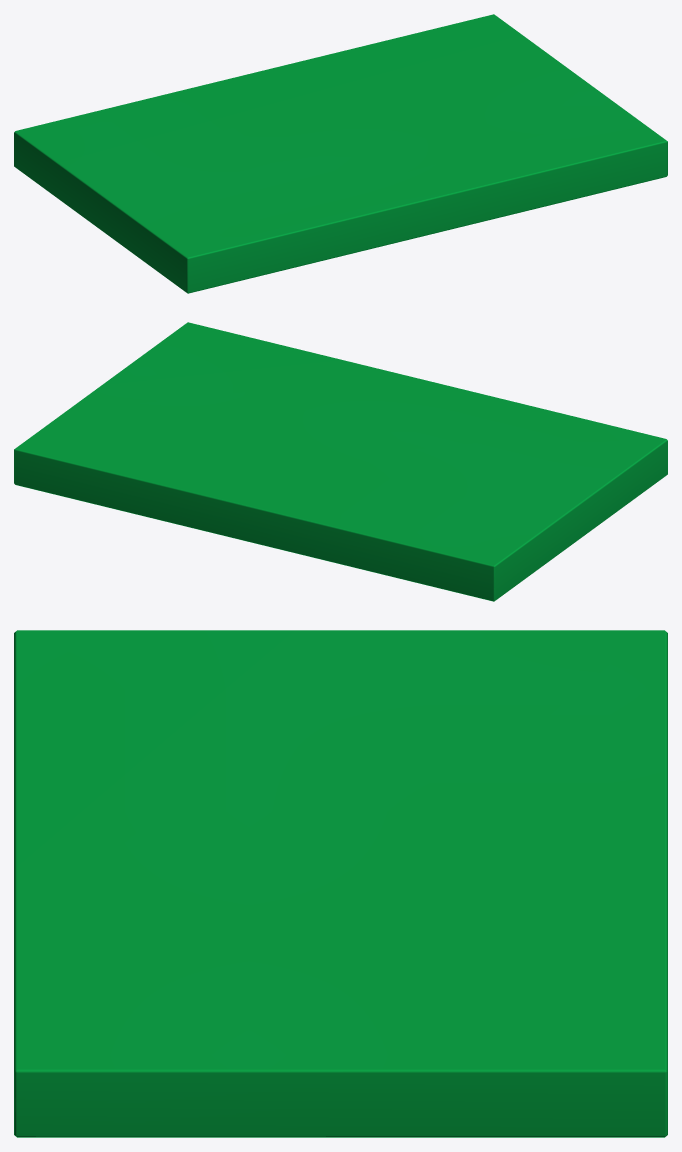
File: Town_12_Base_1.glb
3 views of the same model, one above another, from view 1: azimuth 30°, elevation 25°; view 2: azimuth 150°, elevation 25°; view 3: azimuth 270°, elevation 25° (orthographic). The views are drawn at different scales.
Visible parts, largest first — view 1: Town_12_Base_1; view 2: Town_12_Base_1; view 3: Town_12_Base_1.
Boxes of the visible parts, x1=… form: Town_12_Base_1: x1=14, y1=14, x2=667, y2=293; Town_12_Base_1: x1=14, y1=322, x2=667, y2=601; Town_12_Base_1: x1=14, y1=630, x2=667, y2=1137.
Bounding box in the file's own units: 15.84 × 1.15 × 9.92.
1 material, 1 textured.
